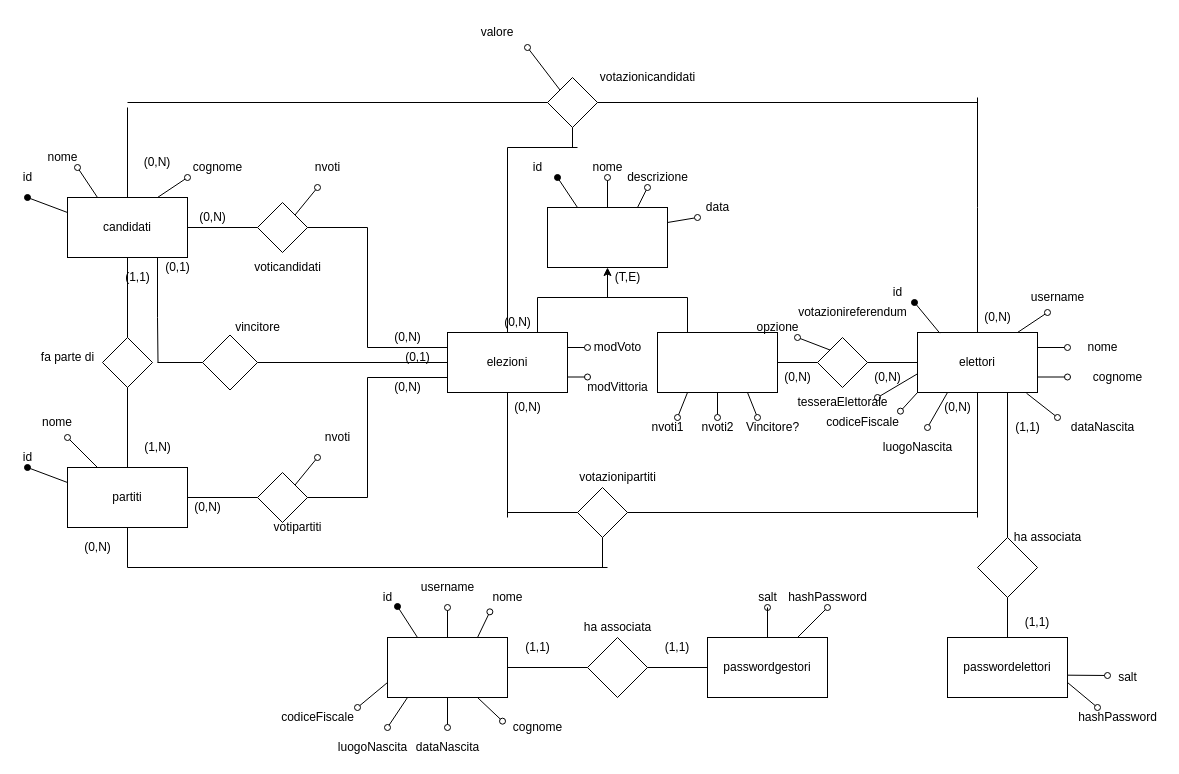
This 1179x774 diagram has some shape labels left out. The box of each missing label's shape, as (x1, y1, x2, y2) in pixels:
gestori: (386, 636, 508, 698)
referendum: (656, 332, 778, 392)
sessioni: (546, 206, 668, 268)
